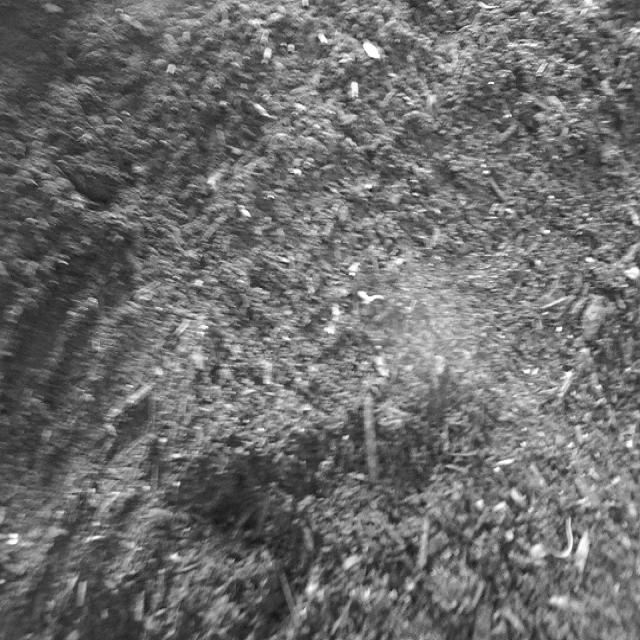Unhealthy: (349, 273, 399, 322)
